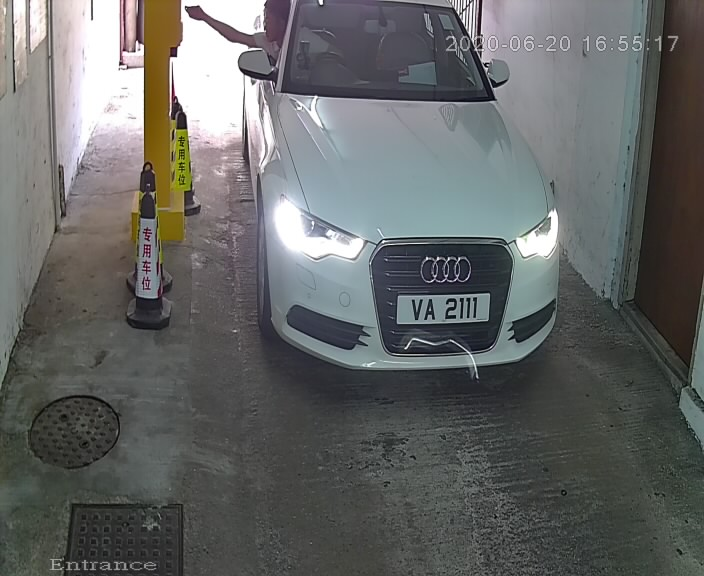privatecar: (227, 1, 583, 415)
